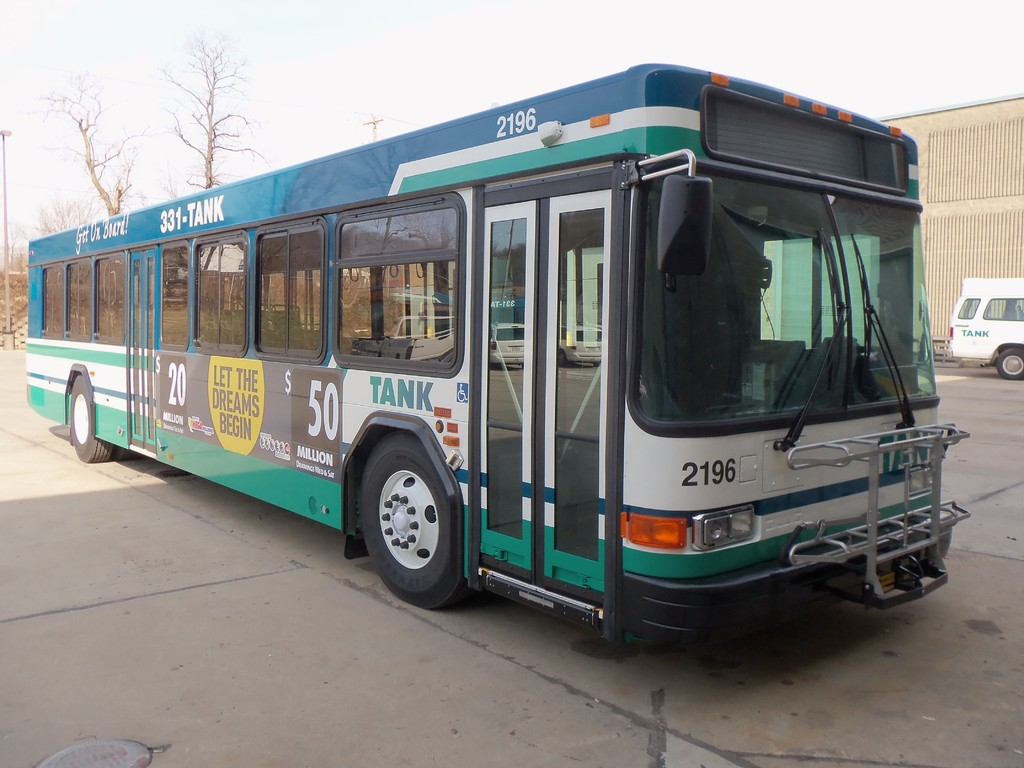Bus: (22, 53, 968, 652)
